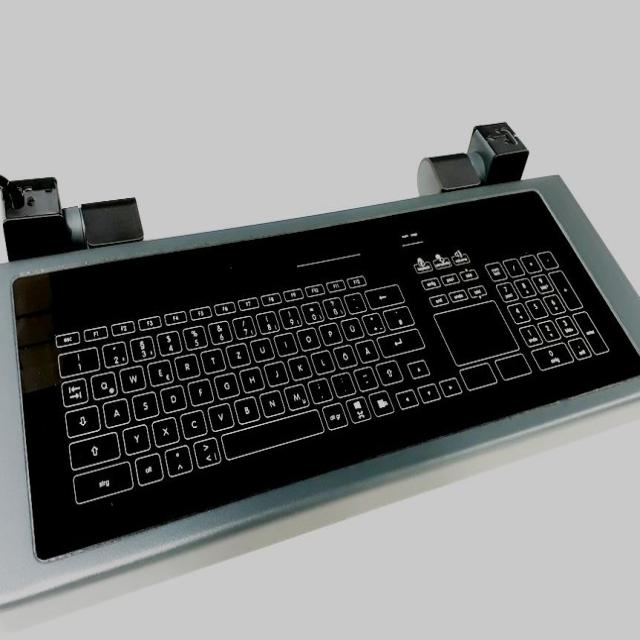0: (298, 298, 323, 320)
1: (58, 348, 101, 377)
2: (100, 338, 126, 364)
3: (129, 335, 155, 361)
4: (155, 327, 180, 352)
5: (182, 322, 207, 347)
6: (206, 317, 231, 341)
7: (231, 312, 256, 336)
8: (254, 307, 278, 331)
9: (276, 302, 301, 326)
a: (101, 395, 129, 424)
accent: (342, 289, 366, 310)
ae: (353, 336, 378, 360)
alt-left: (133, 450, 162, 483)
altgr-right: (319, 399, 347, 427)
b: (232, 392, 258, 421)
c: (178, 407, 205, 436)
caret: (164, 444, 193, 475)
comma: (305, 375, 331, 401)
d: (158, 382, 186, 410)
del: (361, 281, 403, 306)
e: (146, 356, 172, 383)
enter: (374, 325, 423, 355)
f: (186, 375, 212, 402)
g: (212, 369, 238, 396)
h: (237, 363, 263, 389)
hash: (380, 302, 413, 327)
i: (272, 329, 296, 353)
j: (262, 358, 287, 384)
k: (285, 352, 310, 377)
keyboard: (9, 189, 640, 562)
l: (309, 346, 333, 371)
less: (191, 434, 220, 466)
m: (282, 380, 308, 407)
minus: (352, 363, 377, 388)
n: (257, 386, 284, 414)
o: (295, 323, 319, 348)
oe: (332, 341, 357, 365)
p: (317, 319, 341, 342)
plus: (359, 308, 384, 332)
point: (328, 369, 354, 394)
q: (88, 369, 116, 397)
r: (172, 351, 198, 377)
s: (130, 388, 158, 417)
shift-left: (67, 429, 120, 468)
shift-lock: (62, 403, 99, 435)
shift-right: (374, 357, 402, 383)
space: (219, 405, 325, 460)
ss: (321, 296, 346, 318)
strg-left: (70, 458, 133, 501)
t: (199, 344, 224, 370)
tab: (59, 376, 86, 403)
u: (249, 334, 273, 359)
ue: (339, 313, 363, 337)
v: (206, 399, 232, 428)
w: (117, 362, 144, 389)
x: (150, 413, 177, 444)
y: (121, 421, 149, 452)
z: (224, 339, 249, 364)
